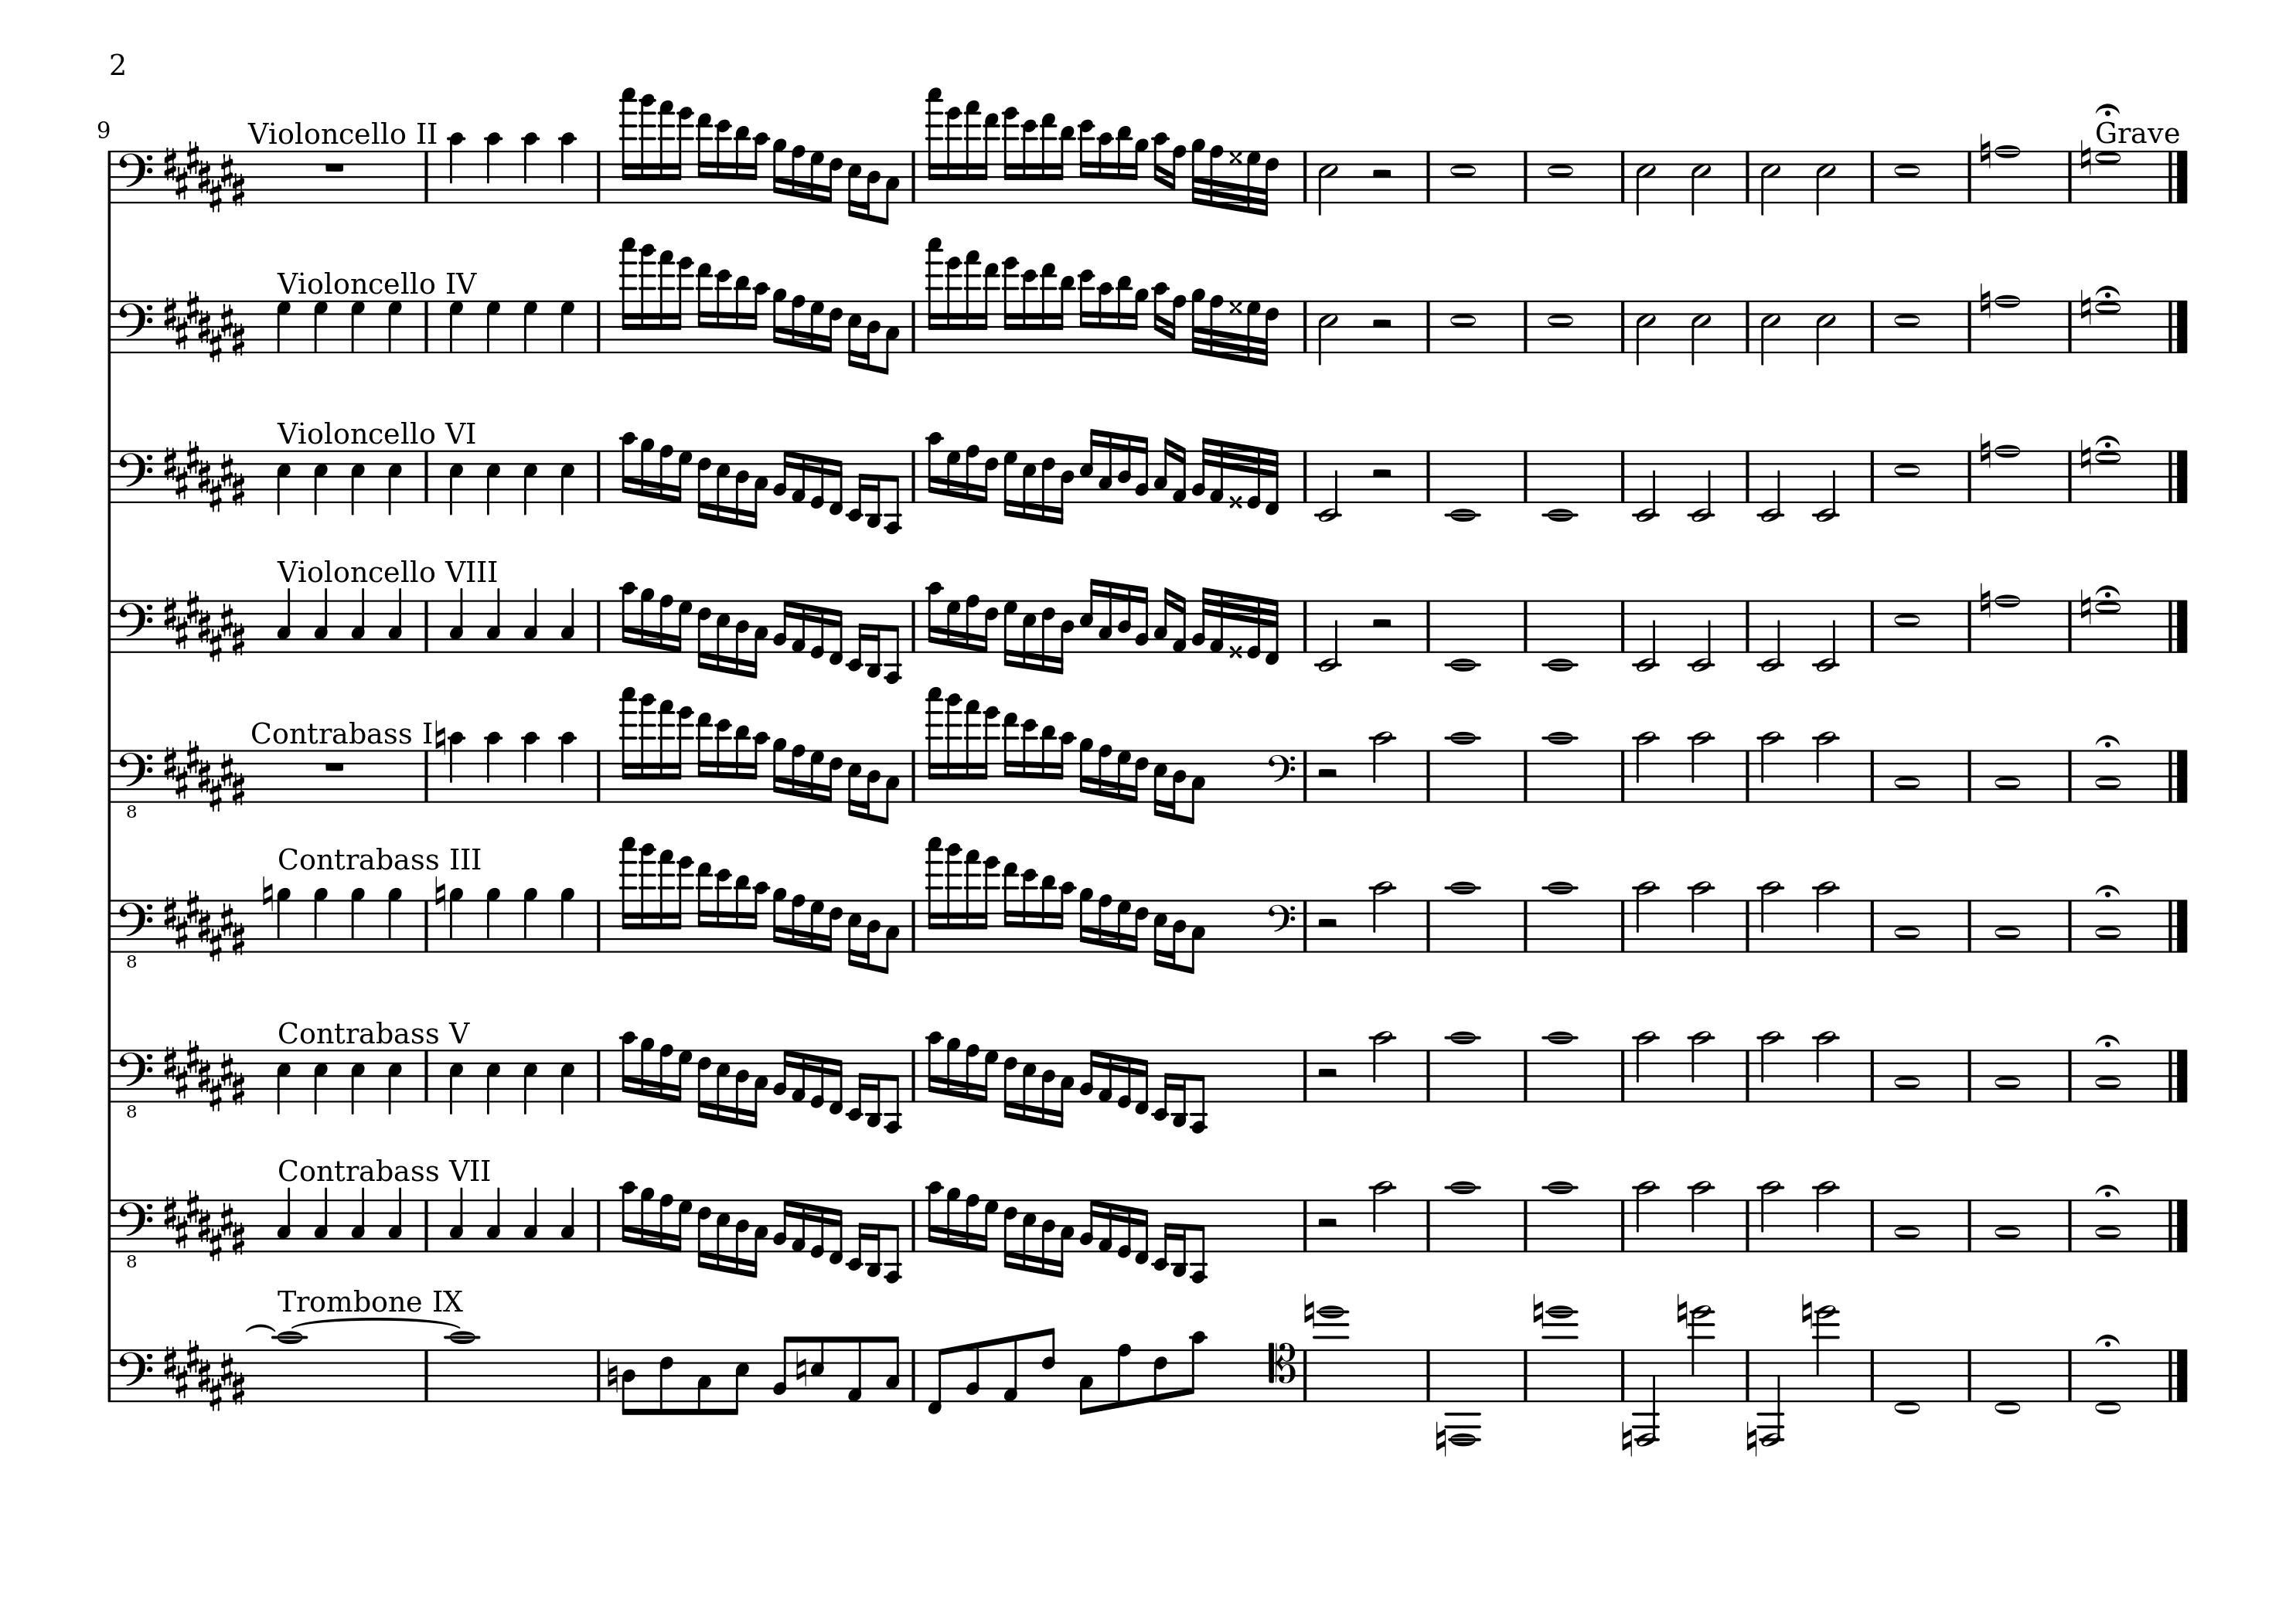16_-1: (826, 1049, 845, 1117), (827, 599, 845, 666), (827, 446, 843, 516), (1133, 1047, 1149, 1115), (1133, 1198, 1149, 1266), (827, 1198, 843, 1265)
16_-2: (845, 448, 866, 523), (845, 599, 866, 673), (845, 1198, 866, 1272), (1151, 1198, 1172, 1272), (847, 1049, 866, 1122), (1152, 1050, 1172, 1121)
16_-3: (864, 448, 884, 529), (864, 1049, 884, 1128), (864, 1198, 884, 1277), (864, 597, 882, 678), (1170, 1198, 1188, 1279), (1170, 1049, 1188, 1128)
16_0: (808, 448, 826, 509), (808, 1049, 826, 1108), (808, 599, 826, 657), (810, 1198, 826, 1261), (1116, 1047, 1131, 1108), (1116, 1198, 1131, 1259)
16_1: (1170, 439, 1188, 504), (1170, 588, 1188, 653), (1096, 1198, 1114, 1254), (1096, 1049, 1114, 1103), (791, 448, 806, 504), (791, 1198, 806, 1254), (791, 599, 806, 653), (791, 1049, 806, 1103)
16_10: (922, 580, 945, 653), (922, 430, 945, 502), (748, 878, 769, 954), (617, 1029, 638, 1105), (748, 279, 769, 353), (617, 430, 638, 504), (617, 580, 638, 653), (748, 729, 769, 803), (1056, 731, 1077, 804), (1056, 880, 1077, 954), (924, 1029, 945, 1103), (617, 1179, 638, 1252), (748, 130, 769, 202), (1151, 279, 1170, 355), (1151, 130, 1170, 204), (924, 1180, 943, 1252), (1096, 130, 1114, 204), (1096, 279, 1114, 353)
16_11: (1056, 123, 1077, 204), (1056, 274, 1077, 353), (1038, 724, 1058, 803), (733, 272, 750, 355), (733, 123, 750, 204), (733, 722, 750, 803), (733, 873, 750, 954), (1116, 274, 1133, 353), (1038, 873, 1056, 952), (1116, 123, 1131, 204)
16_12: (1019, 267, 1038, 355), (1019, 116, 1038, 202), (713, 267, 733, 353), (1019, 717, 1038, 803), (713, 868, 733, 954), (1019, 868, 1038, 954), (713, 119, 733, 204), (1077, 118, 1094, 204), (713, 717, 731, 803)
16_13: (978, 258, 1000, 353), (978, 111, 1000, 202), (1038, 262, 1058, 355), (1000, 711, 1019, 803), (694, 862, 713, 954), (1038, 112, 1058, 200), (694, 114, 713, 200), (694, 710, 711, 803), (1001, 861, 1019, 954), (696, 263, 713, 355), (1077, 269, 1094, 353)
16_14: (673, 253, 694, 353), (673, 854, 694, 954), (978, 854, 1000, 954), (673, 105, 694, 204), (673, 704, 694, 803), (978, 706, 1000, 803), (945, 251, 963, 353), (945, 104, 963, 204), (1001, 105, 1019, 202), (1001, 256, 1019, 353)
16_15: (961, 248, 980, 353), (963, 699, 982, 804), (961, 847, 980, 952), (657, 249, 675, 353), (657, 699, 675, 803), (657, 848, 675, 952), (657, 100, 675, 202), (963, 100, 980, 200)
16_16: (943, 692, 963, 803), (638, 244, 657, 353), (636, 694, 655, 803), (638, 843, 657, 952), (943, 843, 963, 952), (639, 91, 657, 206)
16_17: (618, 86, 638, 204), (924, 86, 943, 204), (618, 685, 638, 803), (618, 235, 638, 351), (924, 687, 943, 803), (924, 237, 943, 351), (618, 838, 638, 950), (926, 836, 943, 954)
16_2: (1077, 1047, 1098, 1101), (1077, 1198, 1098, 1252), (1133, 432, 1149, 502), (1133, 583, 1149, 653), (771, 448, 791, 502), (771, 1047, 791, 1101), (771, 1198, 791, 1252), (771, 599, 791, 652)
16_3: (1056, 1047, 1075, 1129), (750, 599, 769, 680), (748, 1198, 768, 1279), (1056, 1198, 1075, 1279), (748, 450, 768, 529), (748, 1049, 768, 1128), (1096, 429, 1116, 502), (1151, 436, 1172, 502), (1151, 585, 1172, 652), (1096, 580, 1114, 653)
16_4: (1056, 448, 1075, 527), (1056, 599, 1075, 676), (1038, 1047, 1056, 1124), (1038, 1198, 1056, 1275), (863, 148, 880, 221), (863, 898, 880, 971), (863, 299, 880, 371), (733, 448, 748, 527), (1116, 432, 1133, 502), (1116, 581, 1133, 652), (863, 748, 880, 819), (1168, 748, 1186, 819), (1168, 899, 1186, 970), (733, 599, 748, 676), (733, 1049, 748, 1126), (733, 1198, 748, 1275)
16_5: (717, 1049, 748, 1122), (1077, 576, 1098, 653), (1079, 425, 1098, 502), (845, 747, 863, 817), (845, 896, 863, 966), (845, 299, 863, 367), (1151, 898, 1168, 966), (715, 448, 731, 523), (715, 1047, 731, 1122), (1021, 1047, 1036, 1122), (715, 599, 731, 673), (715, 1198, 731, 1272), (1021, 1198, 1036, 1272), (1021, 448, 1036, 520), (847, 148, 863, 218), (1021, 599, 1036, 669), (1152, 747, 1168, 817)
16_6: (1038, 448, 1056, 522), (1038, 597, 1056, 671), (1001, 1047, 1019, 1119), (1001, 1198, 1019, 1268), (696, 448, 711, 518), (696, 599, 711, 669), (696, 1049, 711, 1119), (696, 1198, 711, 1268), (980, 599, 1000, 653), (824, 748, 843, 803), (1130, 748, 1149, 803), (1130, 899, 1149, 954), (980, 450, 1000, 502), (826, 149, 843, 204), (826, 300, 843, 355), (826, 899, 843, 954)
16_7: (1001, 448, 1019, 518), (1001, 597, 1019, 667), (978, 1047, 1000, 1103), (978, 1198, 1000, 1252), (673, 1047, 692, 1103), (673, 450, 692, 504), (673, 599, 692, 653), (673, 1198, 692, 1252), (1244, 148, 1260, 213), (806, 148, 824, 204), (806, 747, 824, 803), (1114, 747, 1131, 803), (943, 450, 961, 504), (808, 299, 824, 355), (945, 597, 961, 653), (808, 898, 824, 954), (1116, 899, 1131, 954)
16_8: (1168, 142, 1188, 204), (1168, 293, 1186, 355), (963, 443, 980, 504), (1096, 892, 1114, 954), (963, 1042, 980, 1103), (789, 144, 806, 204), (789, 293, 806, 353), (963, 592, 980, 652), (789, 743, 806, 803), (789, 894, 806, 954), (657, 1193, 675, 1252), (963, 1193, 980, 1252), (657, 443, 673, 504), (1096, 743, 1112, 804), (657, 1042, 673, 1103), (657, 592, 673, 652)
16_9: (1130, 135, 1149, 204), (1130, 286, 1149, 353), (769, 137, 787, 206), (1077, 736, 1094, 804), (638, 437, 655, 504), (638, 587, 655, 653), (1077, 887, 1094, 954), (638, 1036, 655, 1103), (638, 1186, 655, 1252), (771, 286, 787, 355), (771, 736, 787, 804), (771, 885, 787, 954), (945, 1186, 961, 1254), (945, 1036, 961, 1103)
1_-1: (1892, 1347, 1922, 1417), (1992, 1347, 2022, 1417), (2094, 1347, 2122, 1417)
1_-2: (1541, 597, 1579, 674), (1446, 597, 1481, 676), (1542, 448, 1578, 523), (1446, 446, 1479, 525)
1_-6: (1446, 1347, 1481, 1449)
1_10: (272, 1326, 306, 1403), (1448, 1029, 1479, 1105), (1544, 1029, 1576, 1105), (446, 1328, 478, 1403), (1544, 731, 1576, 804), (1448, 880, 1479, 954), (1544, 880, 1576, 954), (1544, 1180, 1576, 1254), (1448, 1179, 1477, 1254), (1448, 731, 1477, 804)
1_14: (1544, 1303, 1578, 1403), (1316, 1303, 1349, 1402)
1_3: (1892, 898, 1922, 954), (1992, 901, 2022, 957), (1892, 1198, 1922, 1254), (1894, 747, 1922, 804), (2094, 747, 2122, 804), (1992, 1198, 2020, 1254), (1994, 747, 2020, 804), (1894, 1047, 1920, 1105), (1994, 1047, 2020, 1105), (2094, 898, 2120, 954), (2094, 1047, 2120, 1103), (2094, 1198, 2120, 1254)
1_5: (1892, 599, 1922, 653), (1449, 149, 1477, 206), (1449, 299, 1477, 355), (1546, 300, 1574, 355), (1894, 448, 1920, 506), (1548, 149, 1574, 206), (1894, 149, 1920, 206), (1894, 299, 1920, 355)
1_7: (2094, 146, 2122, 204), (2094, 299, 2120, 355), (2094, 599, 2120, 653), (2096, 450, 2120, 504)
1_8: (1992, 142, 2020, 206), (1992, 292, 2020, 355), (1992, 441, 2020, 504), (1992, 592, 2020, 655)
2: (107, 51, 126, 76)
2_-2: (1630, 597, 1660, 674), (1686, 597, 1716, 674), (1755, 597, 1785, 674), (1755, 448, 1785, 523), (1632, 448, 1660, 523), (1811, 597, 1839, 673), (1686, 448, 1715, 522), (1811, 448, 1838, 523), (1314, 597, 1340, 673), (1314, 448, 1340, 522)
2_10: (1688, 729, 1715, 804), (1757, 729, 1783, 804), (1688, 1029, 1715, 1105), (1757, 1029, 1783, 1105), (1688, 1179, 1715, 1254), (1757, 1179, 1783, 1254), (1632, 731, 1658, 804), (1634, 880, 1660, 954), (1688, 880, 1715, 954), (1757, 880, 1783, 954), (1370, 729, 1395, 804), (1370, 1029, 1395, 1105), (1634, 1029, 1658, 1105), (1813, 1029, 1838, 1105), (1370, 1179, 1395, 1254), (1634, 1179, 1658, 1254), (1813, 1179, 1838, 1254), (1813, 731, 1838, 804), (1370, 880, 1395, 954), (1813, 880, 1838, 954)
2_14: (1813, 1303, 1841, 1403), (1690, 1303, 1716, 1403)
2_5: (1813, 148, 1836, 216), (1316, 299, 1339, 365), (1813, 299, 1836, 365), (1758, 299, 1780, 367), (1316, 148, 1337, 214), (1634, 149, 1655, 216), (1690, 149, 1711, 216), (1758, 149, 1780, 216), (1634, 299, 1655, 365), (1690, 299, 1711, 365)
32_-1: (1263, 597, 1281, 666), (1265, 448, 1281, 516)
32_0: (1245, 444, 1261, 509), (1245, 594, 1261, 659)
32_1: (1207, 587, 1226, 653), (1209, 437, 1226, 504)
32_2: (1189, 585, 1210, 653), (1189, 436, 1210, 502)
32_6: (1260, 149, 1279, 218), (1260, 299, 1279, 367)
32_7: (1244, 299, 1260, 364)
32_8: (1207, 293, 1224, 358), (1209, 142, 1224, 209)
32_9: (1189, 135, 1207, 206), (1189, 286, 1207, 357)
4_-6: (1757, 1345, 1785, 1447), (1632, 1347, 1660, 1447)
4_10: (444, 130, 467, 204), (520, 130, 541, 206), (520, 729, 541, 804), (483, 130, 504, 204), (557, 130, 576, 206), (446, 729, 466, 804), (483, 729, 502, 804), (557, 729, 576, 804)
4_3: (483, 1186, 502, 1251), (348, 1186, 365, 1252), (485, 587, 502, 652), (311, 1186, 329, 1251), (522, 1184, 538, 1252), (522, 587, 538, 653), (276, 1186, 292, 1252), (448, 1186, 464, 1252), (276, 587, 292, 652), (313, 587, 329, 652), (350, 587, 365, 652), (386, 587, 402, 652), (448, 587, 464, 652), (559, 587, 574, 652), (386, 1186, 402, 1251), (559, 1186, 574, 1251)
4_5: (274, 448, 292, 516), (446, 448, 464, 516), (483, 448, 501, 516), (274, 1049, 292, 1117), (348, 1049, 365, 1117), (446, 1049, 464, 1117), (311, 450, 329, 516), (348, 450, 365, 516), (311, 1049, 329, 1115), (483, 1049, 501, 1115), (522, 448, 538, 516), (559, 448, 574, 516), (522, 1049, 538, 1117), (386, 450, 402, 516), (386, 1049, 402, 1115), (559, 1049, 574, 1115)
4_7: (483, 299, 502, 353), (348, 299, 365, 355), (274, 299, 292, 353), (311, 299, 329, 353), (446, 299, 464, 353), (386, 299, 402, 355), (522, 299, 538, 355), (559, 299, 574, 355)
4_9: (385, 885, 404, 954), (483, 885, 502, 954), (274, 885, 292, 954), (311, 885, 329, 954), (348, 885, 365, 954), (446, 885, 464, 954), (557, 885, 574, 954), (522, 885, 538, 954)
8_-1: (926, 1345, 949, 1414)
8_-4: (1188, 1049, 1210, 1133), (1188, 1198, 1209, 1284), (884, 448, 903, 534), (884, 599, 903, 683), (884, 1049, 903, 1133), (884, 1198, 903, 1282)
8_1: (1000, 1333, 1019, 1403), (845, 1333, 863, 1403)
8_10: (1182, 1330, 1207, 1402)
8_2: (771, 1333, 792, 1402), (963, 1340, 980, 1403)
8_3: (1186, 747, 1207, 824), (880, 898, 901, 975), (880, 299, 901, 374), (880, 748, 901, 824), (1188, 898, 1207, 975), (882, 149, 901, 225), (694, 1347, 711, 1416), (1077, 1347, 1094, 1416), (884, 1333, 899, 1403)
8_4: (618, 1347, 636, 1417)
8_5: (729, 1345, 750, 1416), (808, 1333, 826, 1403)
8_6: (1040, 1326, 1058, 1403), (657, 1347, 675, 1416), (1152, 1347, 1168, 1403)
8_8: (1114, 1342, 1131, 1410)
9: (97, 118, 111, 139)
C_S: (162, 137, 248, 213), (160, 887, 248, 961), (162, 736, 246, 811), (162, 437, 246, 511), (162, 588, 246, 662), (162, 1038, 246, 1112), (162, 1337, 246, 1410), (162, 290, 246, 362), (162, 1187, 246, 1259)
DSharp: (1228, 639, 1244, 662), (1228, 490, 1244, 511), (1228, 297, 1244, 316), (1228, 148, 1244, 165)
Fclef: (116, 148, 155, 204), (118, 299, 155, 355), (118, 448, 155, 504), (118, 1347, 153, 1403), (118, 599, 153, 653), (1267, 748, 1296, 804), (1267, 898, 1296, 952)
Fermata_above: (2092, 100, 2122, 119), (2092, 731, 2122, 748), (2094, 1180, 2122, 1198), (2094, 882, 2122, 898), (2094, 1031, 2122, 1047), (2094, 1331, 2122, 1347)
Final_barline: (2166, 149, 2189, 204), (2166, 299, 2189, 353), (2166, 448, 2189, 502), (2166, 747, 2189, 801), (2166, 898, 2189, 952), (2166, 1347, 2189, 1402), (2166, 599, 2189, 652), (2166, 1049, 2189, 1101), (2166, 1198, 2189, 1251)
Lower_Fclef: (118, 898, 155, 971), (118, 748, 155, 820), (118, 1049, 155, 1121), (118, 1198, 155, 1270)
Natural: (1672, 1289, 1688, 1331), (1797, 1289, 1813, 1331), (1432, 1417, 1448, 1456), (2078, 286, 2092, 327), (2078, 437, 2092, 478), (2078, 587, 2092, 627), (1302, 1289, 1316, 1330), (1530, 1289, 1544, 1330), (1743, 1417, 1757, 1458), (1978, 132, 1992, 170), (2078, 139, 2092, 177), (1978, 281, 1992, 320), (1978, 430, 1992, 469), (1618, 1417, 1632, 1456), (1978, 581, 1992, 618), (260, 873, 272, 913), (432, 875, 446, 910), (606, 1354, 618, 1393), (432, 717, 444, 754), (794, 1349, 806, 1384)
Rests1: (321, 158, 348, 174), (321, 759, 348, 773)
Rests2: (1314, 1064, 1342, 1082), (1314, 1214, 1340, 1231), (1314, 766, 1342, 782), (1314, 915, 1342, 931), (1368, 316, 1395, 332), (1368, 465, 1395, 481), (1368, 615, 1395, 631), (1368, 167, 1395, 181)
Single_barline: (1296, 149, 1312, 202), (1296, 300, 1312, 353), (1296, 1050, 1312, 1101), (1518, 1050, 1534, 1101), (1296, 1200, 1312, 1251), (1741, 149, 1755, 202), (1421, 300, 1435, 353), (1518, 300, 1532, 353), (1616, 300, 1630, 353), (906, 300, 921, 353), (592, 450, 606, 502), (1421, 450, 1435, 502), (1866, 450, 1880, 502), (1518, 599, 1532, 652), (1616, 599, 1630, 652), (1741, 599, 1755, 652), (1866, 599, 1880, 652), (906, 899, 921, 952), (1962, 899, 1976, 952), (2062, 899, 2076, 952), (1741, 1049, 1755, 1101), (1962, 1049, 1976, 1101), (1421, 1349, 1435, 1402), (1616, 1349, 1630, 1402), (1741, 1349, 1755, 1402), (1866, 1349, 1880, 1402), (1518, 1349, 1532, 1402), (592, 151, 606, 202), (1421, 151, 1435, 202), (1518, 151, 1532, 202), (1616, 151, 1630, 202), (1866, 151, 1880, 202), (2062, 151, 2076, 202), (592, 300, 606, 351), (1866, 300, 1880, 351), (1741, 300, 1755, 351), (2062, 300, 2076, 351), (1741, 451, 1755, 502), (2062, 451, 2076, 502), (104, 601, 118, 652), (592, 601, 606, 652), (2062, 601, 2076, 652), (592, 750, 606, 801), (1298, 750, 1312, 801), (1421, 750, 1435, 801), (1518, 750, 1532, 801), (1616, 750, 1630, 801), (1741, 750, 1755, 801), (1866, 750, 1880, 801), (1962, 750, 1976, 801), (2062, 750, 2076, 801), (1741, 899, 1755, 950), (592, 899, 606, 950), (1298, 899, 1312, 950), (1421, 899, 1435, 950), (1518, 899, 1532, 950), (1616, 899, 1630, 950), (1866, 899, 1880, 950), (592, 1050, 606, 1101), (1421, 1050, 1435, 1101), (1616, 1050, 1630, 1101), (1866, 1050, 1880, 1101), (2062, 1050, 2076, 1101), (1421, 1200, 1435, 1251), (1518, 1200, 1532, 1251), (1616, 1200, 1630, 1251), (1741, 1200, 1755, 1251), (1866, 1200, 1880, 1251), (1962, 1200, 1976, 1251), (2062, 1200, 2076, 1251), (592, 1200, 606, 1251), (592, 1349, 606, 1400), (1962, 1349, 1976, 1400), (2062, 1349, 2076, 1400), (906, 149, 919, 202), (104, 300, 116, 353), (906, 450, 919, 502), (1298, 450, 1310, 502), (1520, 450, 1532, 502), (906, 599, 919, 652), (1298, 599, 1310, 652), (1421, 599, 1433, 652), (104, 750, 116, 803), (104, 899, 116, 952), (420, 899, 432, 952), (906, 1049, 919, 1101), (104, 1349, 116, 1402), (104, 151, 116, 202), (420, 151, 432, 202), (1962, 151, 1975, 202), (420, 300, 432, 351), (1962, 300, 1975, 351), (104, 451, 116, 502), (420, 451, 432, 502), (1616, 451, 1628, 502), (1962, 451, 1975, 502), (1962, 601, 1975, 652), (906, 750, 919, 801), (420, 750, 432, 801), (104, 1050, 116, 1101), (420, 1050, 432, 1101), (906, 1200, 919, 1251), (104, 1200, 116, 1251), (906, 1349, 919, 1400), (1298, 1349, 1310, 1400), (420, 1349, 432, 1400), (420, 601, 432, 650), (420, 1200, 432, 1249)
Slur: (2094, 283, 2122, 297), (2092, 434, 2120, 446), (2094, 585, 2120, 597), (246, 1321, 276, 1331)
Tensor_Cclef: (1267, 1340, 1296, 1402)
